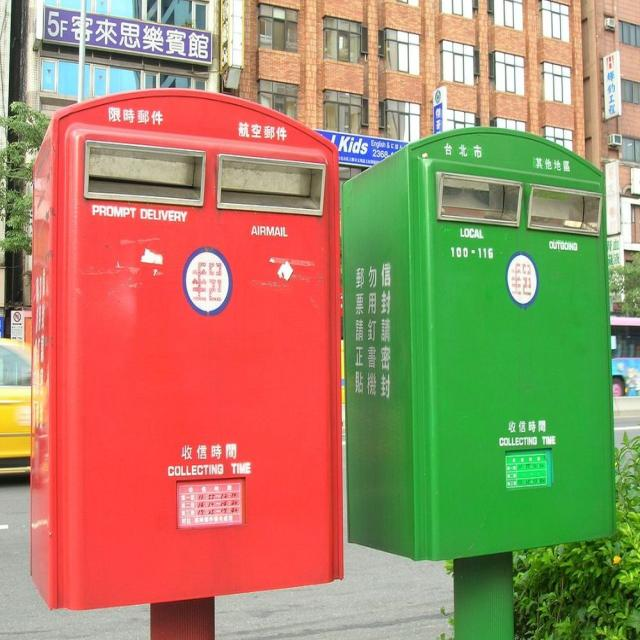Post Box: (29, 84, 345, 640), (340, 126, 617, 640)
